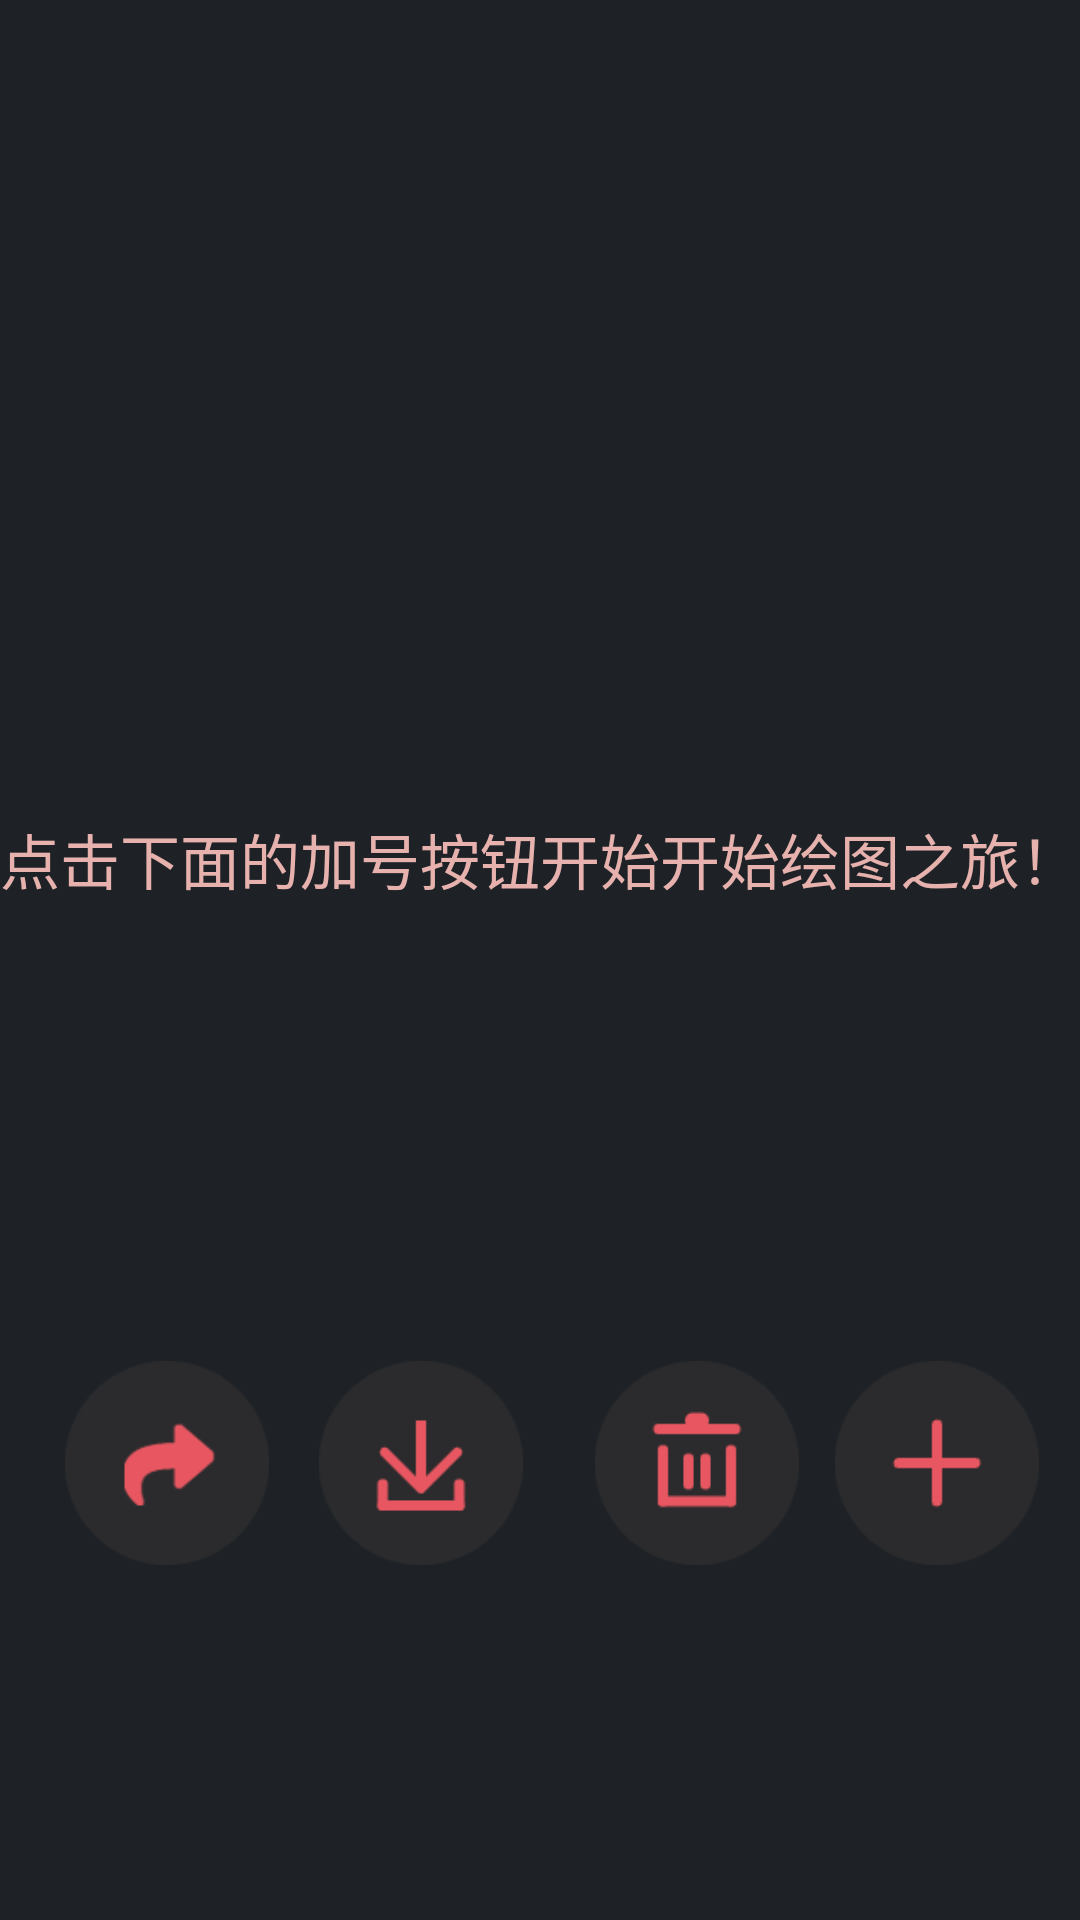

Locate icon controls on the screen. Image size 1080x1920, boxes as (x1, y1, x2, y2).
add: (835, 1361, 1039, 1565)
delete: (652, 1411, 742, 1508)
down: (319, 1361, 523, 1565)
share: (65, 1361, 269, 1565)
